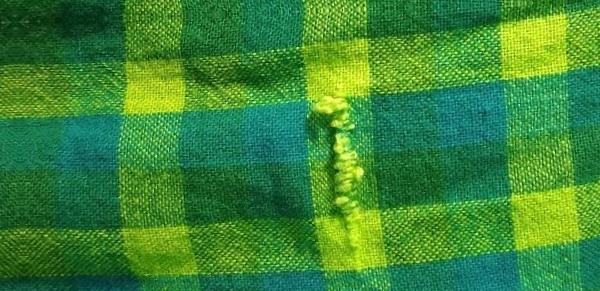knot: (309, 93, 372, 255)
